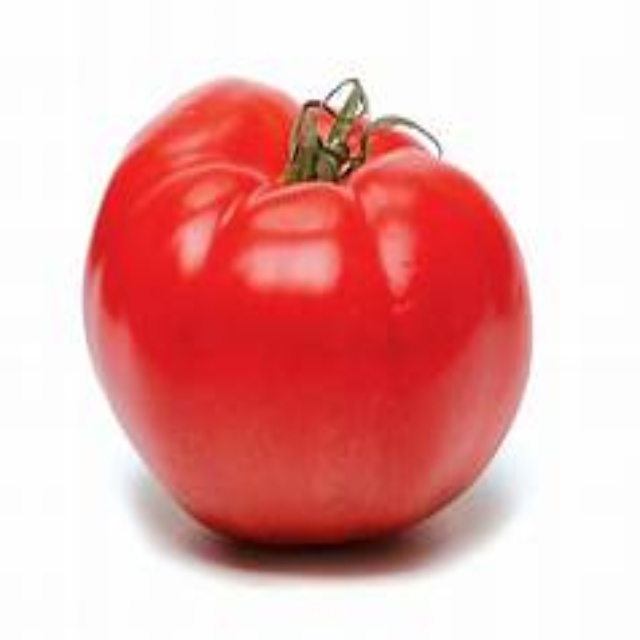tomato: (76, 60, 547, 554)
